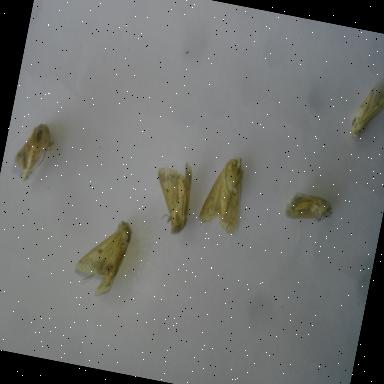abw: (68, 210, 138, 305), (192, 148, 253, 239), (143, 152, 202, 242), (6, 114, 60, 192), (280, 184, 340, 232), (345, 77, 384, 147)
